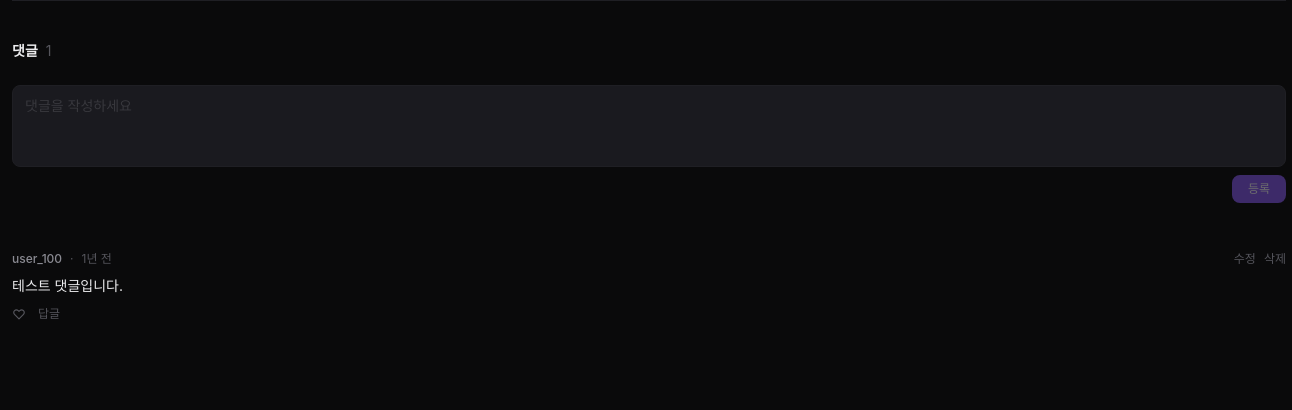
it: CommentItem — 수정 › 수정 버튼 클릭 시 편집 폼이 나타난다
This screenshot has width=1292, height=410.
Expected: the text "테스트 댓글입니다." is shown, x1=12 y1=277 x2=123 y2=294
Click the button "수정". click: (1245, 259)
box: x1=1234 y1=251 x2=1256 y2=267
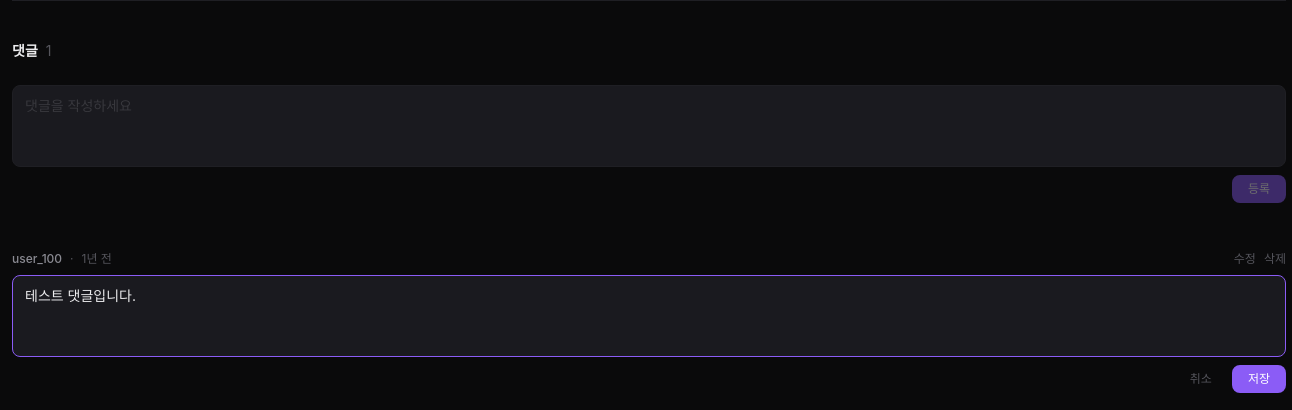
Expected: the text box showing "테스트 댓글입니다." is shown, x1=12 y1=275 x2=1286 y2=357
Expected: the button "저장" is shown, x1=1232 y1=365 x2=1286 y2=393
Expected: the button "취소" is shown, x1=1178 y1=365 x2=1224 y2=393
